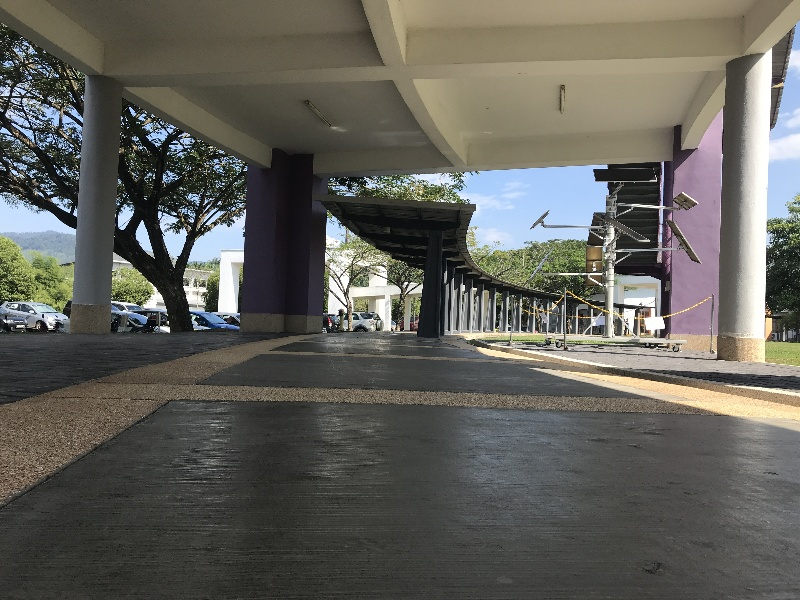Block D corridor: (10, 5, 795, 599)
pillar: (714, 59, 778, 366), (60, 65, 120, 335), (235, 138, 320, 328), (659, 117, 722, 349), (418, 214, 455, 355)
